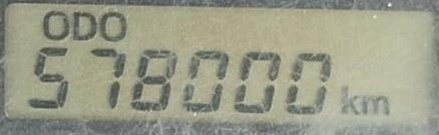0: (233, 51, 281, 114), (182, 49, 229, 113), (285, 51, 331, 116)
5: (26, 47, 71, 111)
7: (88, 47, 126, 110)
8: (128, 47, 177, 112)
X: (41, 10, 70, 40), (98, 11, 127, 41), (72, 11, 97, 42), (362, 94, 390, 116), (340, 84, 360, 114)
